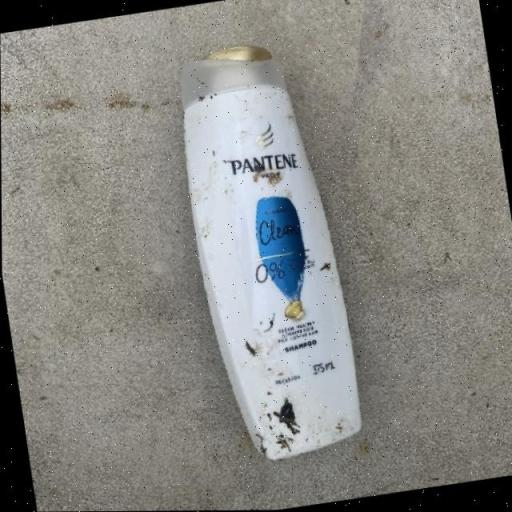plastic: (167, 34, 367, 468)
